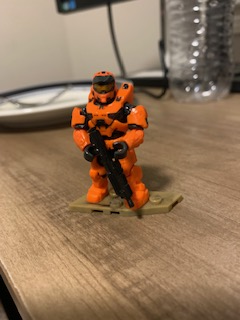rifle: (88, 128, 136, 210)
spartan: (70, 69, 152, 211)
